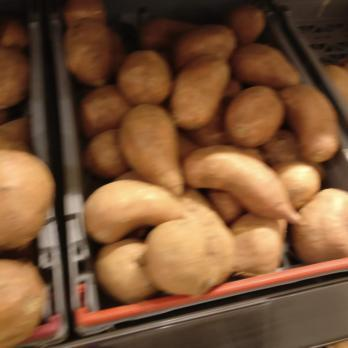Sweet potato: (91, 0, 289, 279), (0, 13, 57, 348), (275, 80, 348, 263)
